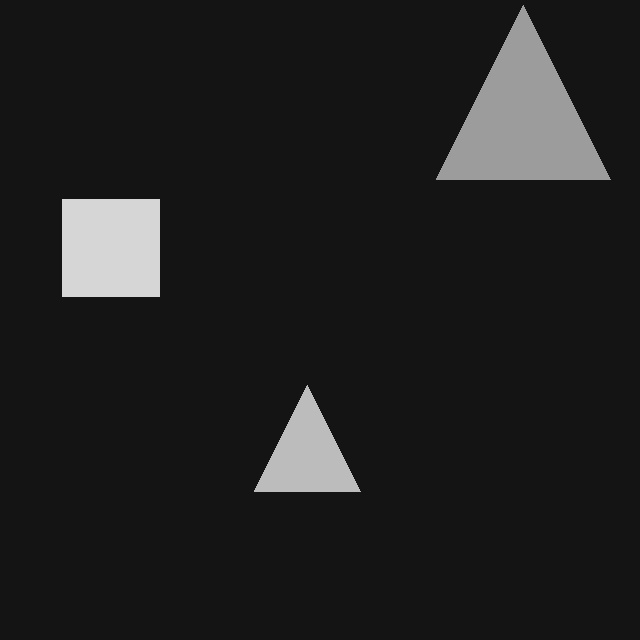square: (62, 199, 159, 296)
triangle: (436, 5, 610, 179), (254, 385, 360, 491)
